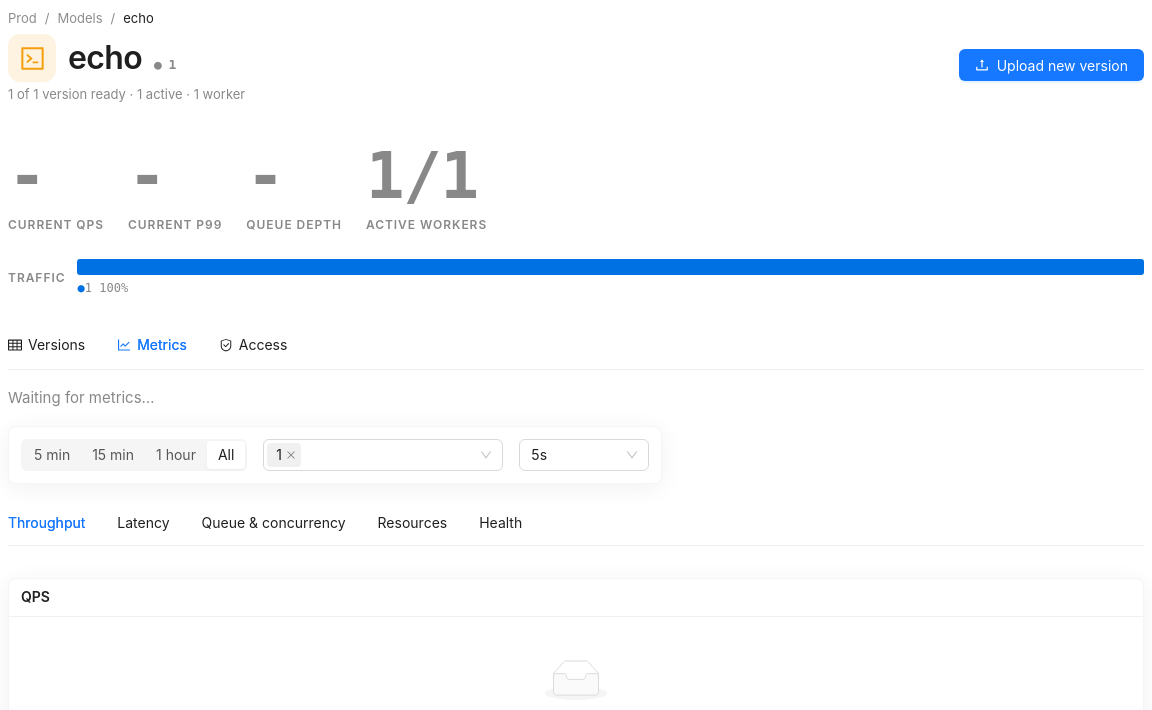
Test: ModelDetailPage unloaded model › should_list_model_grants_in_the_access_tab_for_instance_admins
This screenshot has width=1152, height=710.
Click the tab "Access": (253, 346) 219,334 -> 287,358
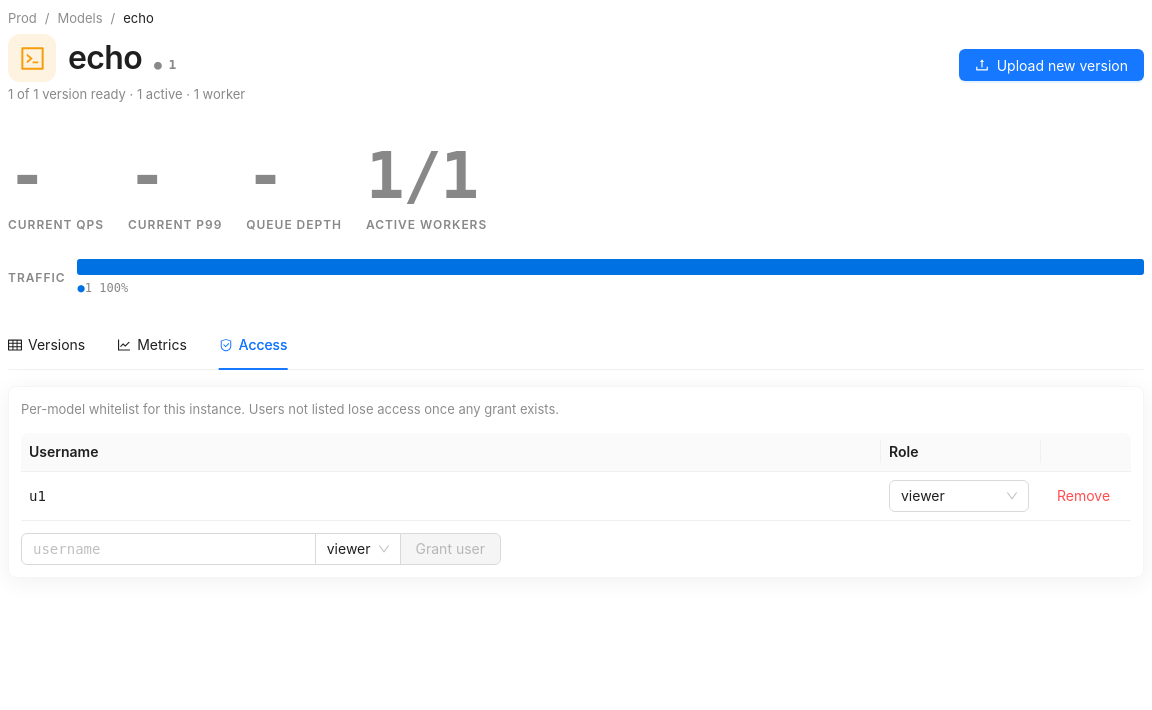
Result: the text "u1" is shown at 29,488 -> 46,504
